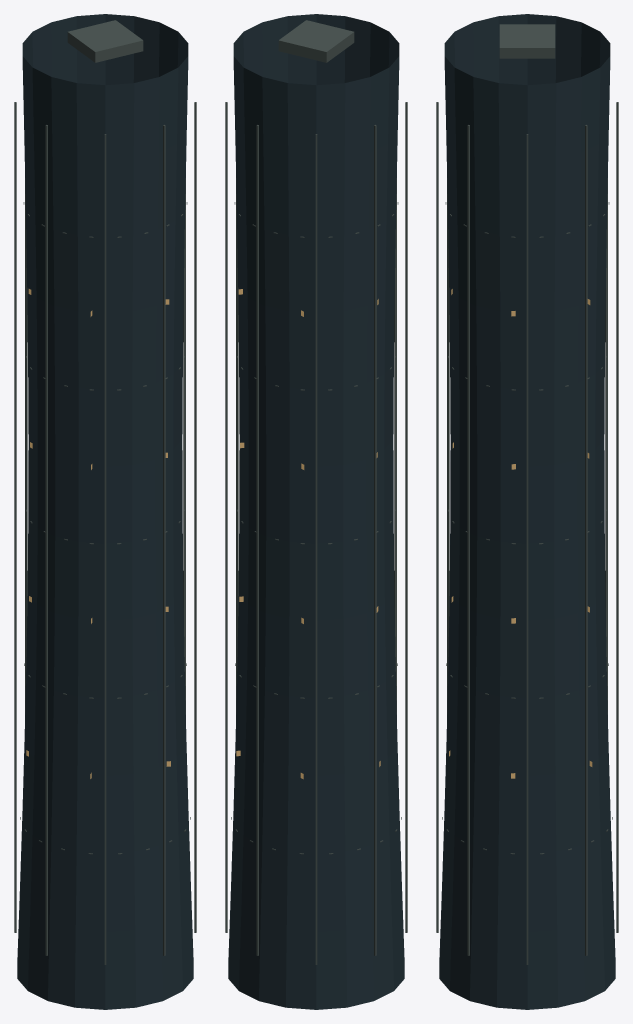
File: dajia.glb
The picture shows the model from 3 angles, left to right: view 1: azimuth 30°, elevation 25°; view 2: azimuth 150°, elevation 25°; view 3: azimuth 270°, elevation 25°; orthographic projection.
Visible parts, largest first — view 1: envelope, ribs, crown_ring; view 2: envelope, ribs, crown_ring; view 3: envelope, ribs, crown_ring.
Boxes of the visible parts, left/top/right/bottom form: envelope: left=17, top=14, right=193, bottom=1009; ribs: left=14, top=102, right=196, bottom=964; crown_ring: left=67, top=20, right=143, bottom=62; envelope: left=228, top=14, right=404, bottom=1009; ribs: left=225, top=102, right=407, bottom=964; crown_ring: left=278, top=20, right=354, bottom=62; envelope: left=439, top=14, right=615, bottom=1009; ribs: left=436, top=102, right=618, bottom=964; crown_ring: left=499, top=24, right=555, bottom=58.
Bounding box in the file's own units: 48.82 × 277 × 48.87.
